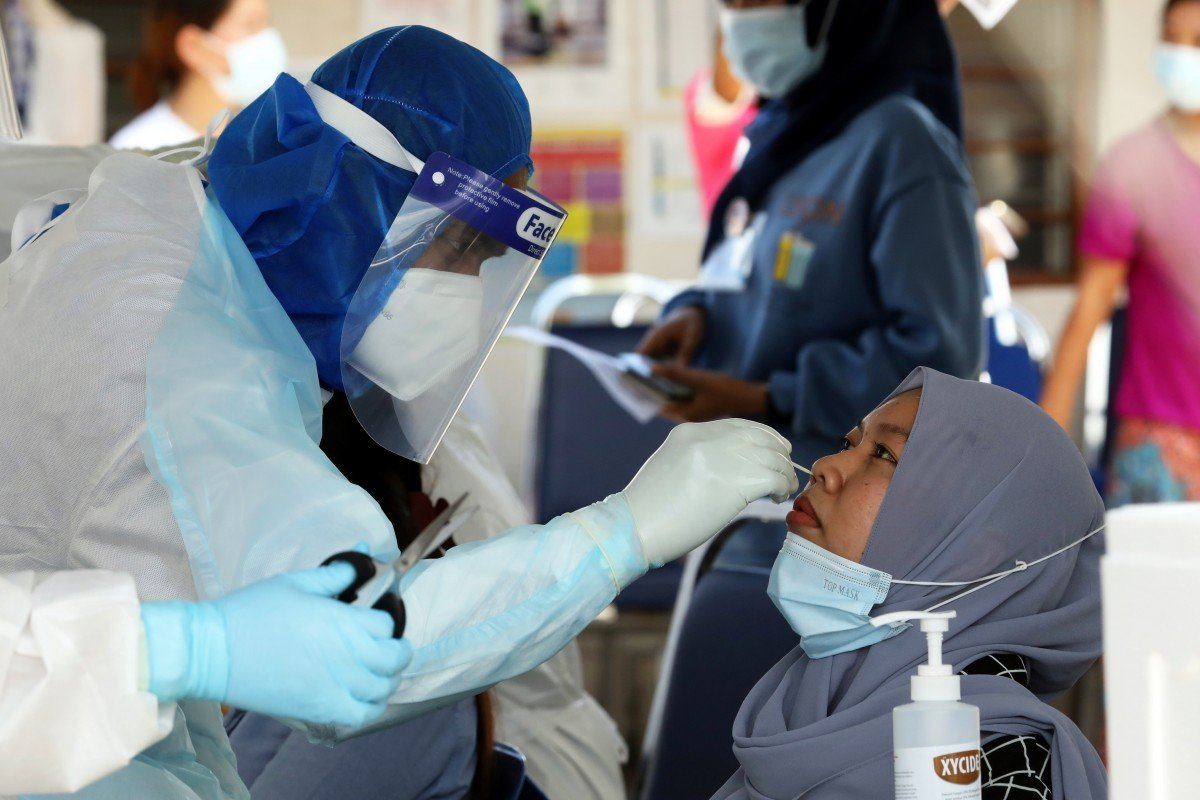Face_Shield: (333, 145, 580, 477)
Gloves: (139, 539, 418, 730), (610, 410, 805, 589)
mask_weared_incorrect: (763, 379, 947, 660)
with_mask: (353, 217, 500, 411)
